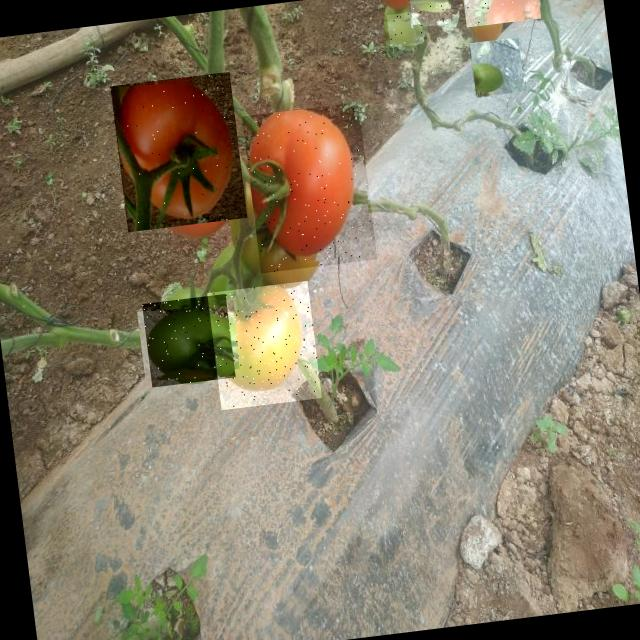Ripe Tomato: (242, 102, 377, 274), (110, 71, 247, 232), (460, 0, 540, 27)
Unripe Tomato: (206, 280, 322, 410), (142, 294, 236, 388), (468, 38, 526, 96), (386, 10, 424, 48), (408, 0, 450, 27)
